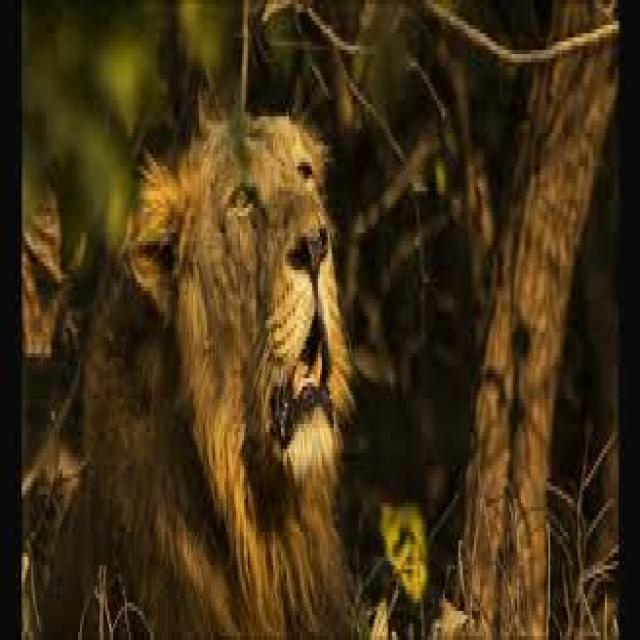Lion: (49, 121, 352, 636)
